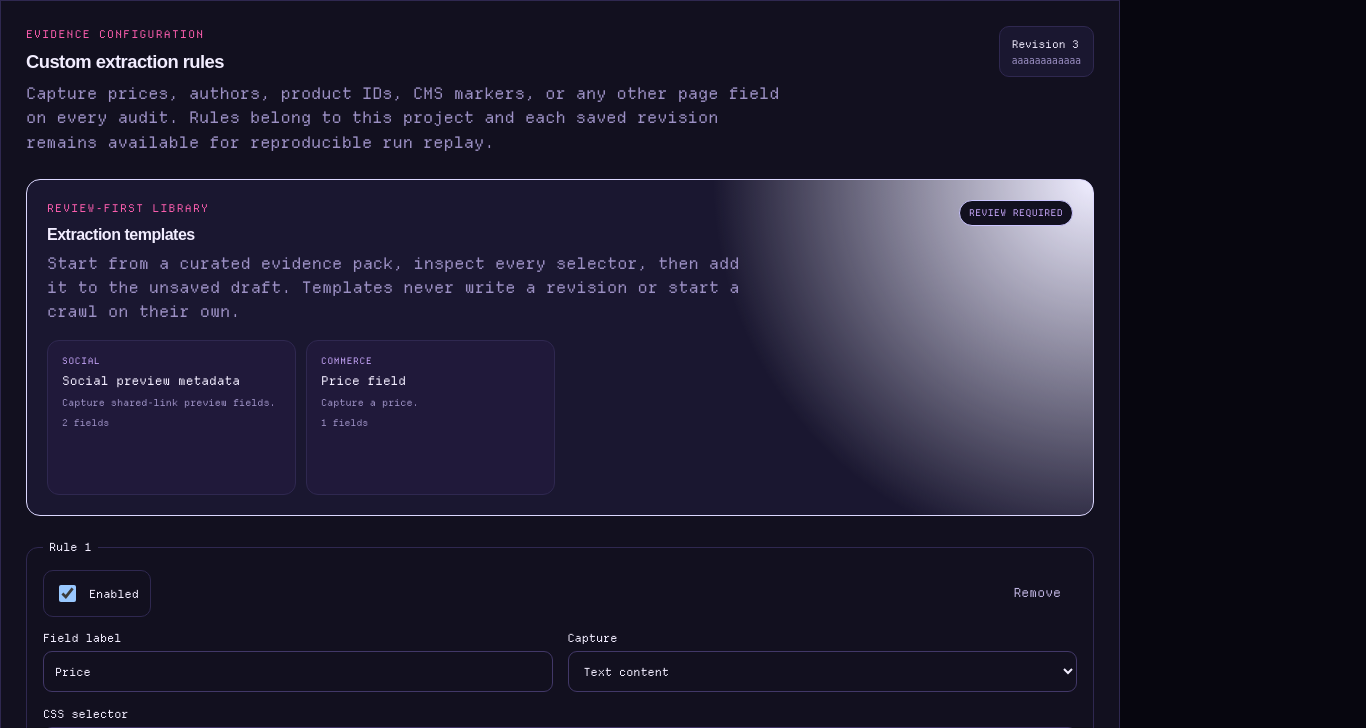
Custom extraction rule editor › blocks a template whose field label already exists in the draft
This screenshot has width=1366, height=728.
What coordinates should you click on to do the following:
click the button with aria-label "Review Price field"
I would click on:
 (430, 418)
Its box is [306, 340, 555, 495].
(page scrolled)
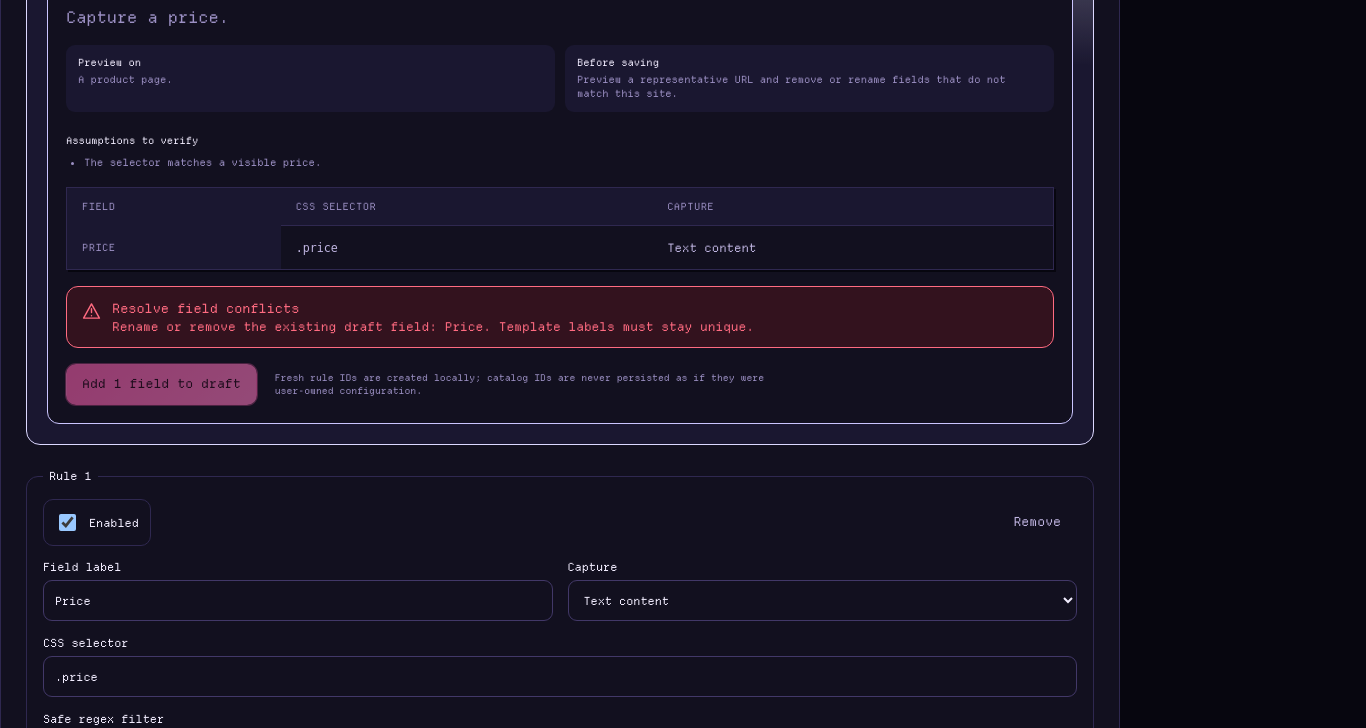
Now the text "Resolve field conflicts" is shown, box [112, 300, 299, 316]
Now the button "Add 1 field to draft" is disabled, box [66, 364, 257, 405]
